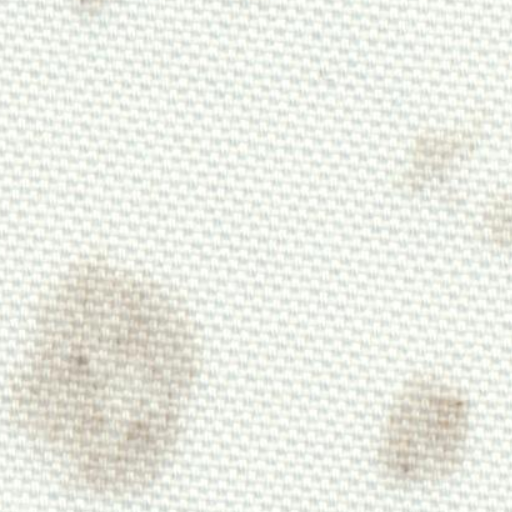WuZi: (2, 228, 220, 502), (390, 91, 508, 270), (353, 354, 494, 502), (60, 1, 128, 29)
